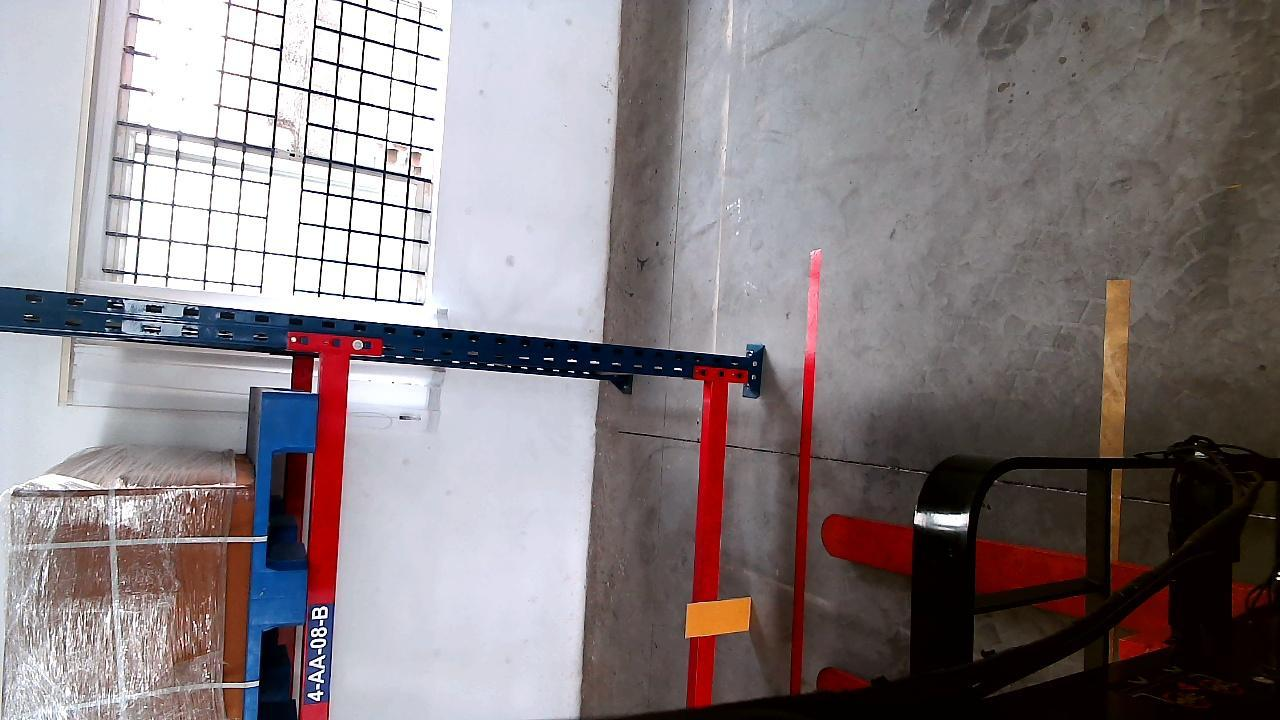red_line: (789, 246, 822, 691)
yellow_line: (1102, 281, 1129, 459)
